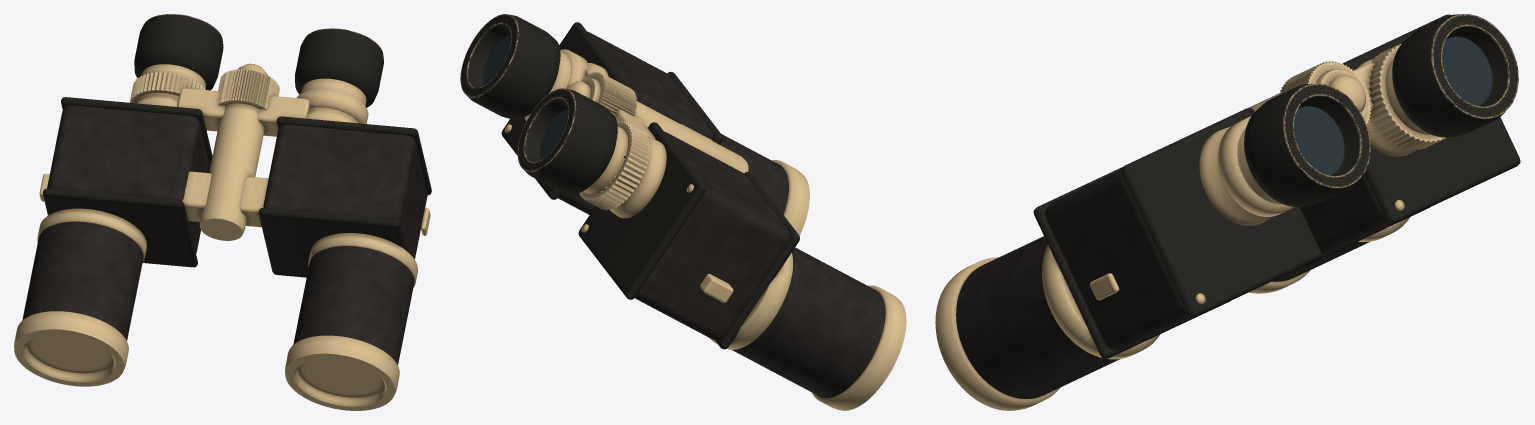
The model's file is study_glasses.glb.
3 views of the same model, side by side, from view 1: azimuth 30°, elevation 25°; view 2: azimuth 150°, elevation 25°; view 3: azimuth 270°, elevation 25° (orthographic). The views are drawn at different scales.
Parts seen in each view (by area): view 1: glasses_leather, glasses_brass, glasses_eyecup; view 2: glasses_leather, glasses_eyecup, glasses_brass, glasses_lenses, eyepiece_glass; view 3: glasses_eyecup, glasses_leather, glasses_brass, eyepiece_glass, glasses_lenses.
Part boxes in pixels (x1,y1,x2,y2): glasses_leather: (22,105,427,365); glasses_brass: (14,63,430,410); glasses_eyecup: (42,14,431,277); glasses_leather: (558,31,885,398); glasses_eyecup: (460,14,799,349); glasses_brass: (504,49,906,410); glasses_lenses: (540,109,568,159); eyepiece_glass: (482,34,511,85); glasses_eyecup: (1033,14,1520,358); glasses_leather: (956,170,1389,399); glasses_brass: (935,44,1445,410); eyepiece_glass: (1294,106,1344,175); glasses_lenses: (1442,36,1492,105).
Bounding box in the file's own units: 0.1725 × 0.1221 × 0.1692.
Materials: 5 (3 with a texture image).
